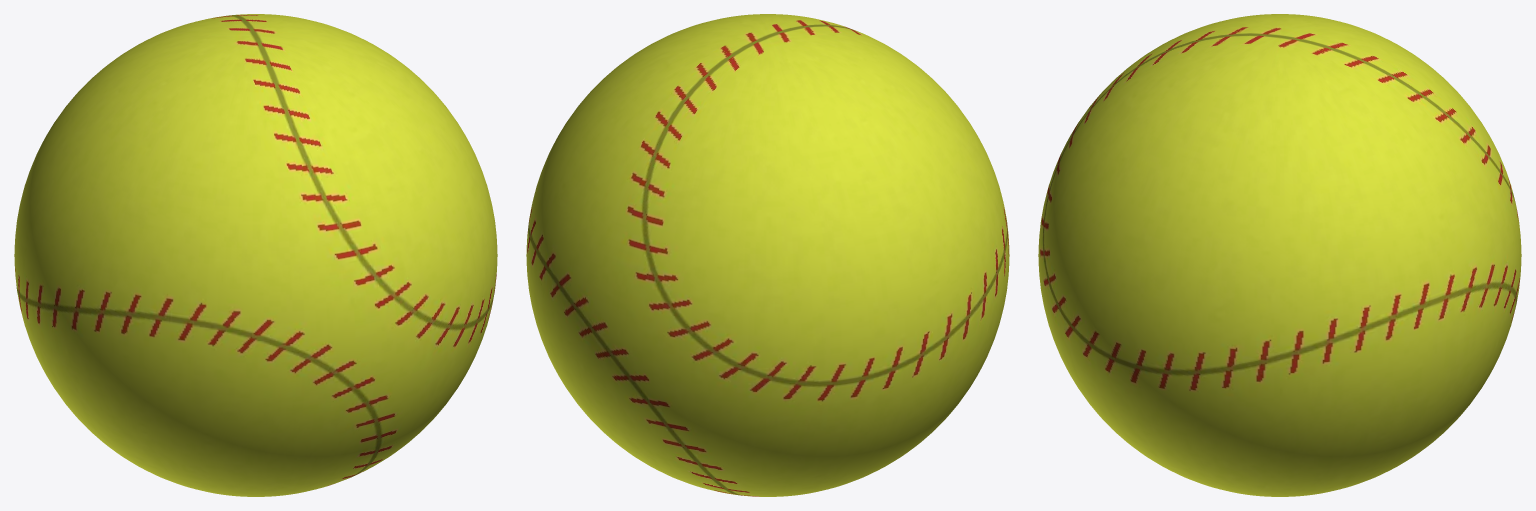
The model's file is ball-softball.glb.
3 renders of one model, left to right at view 1: azimuth 30°, elevation 25°; view 2: azimuth 150°, elevation 25°; view 3: azimuth 270°, elevation 25°, orthographic.
Parts seen in each view (by area): view 1: Ball; view 2: Ball; view 3: Ball.
Boxes of the visible parts, box(x1,y1,x2,y2) form: Ball: box(14, 14, 497, 496); Ball: box(526, 14, 1009, 496); Ball: box(1038, 14, 1521, 496).
Size of the model in its own units: 0.0978 by 0.0978 by 0.0978.
Materials: 2 (2 with a texture image).
